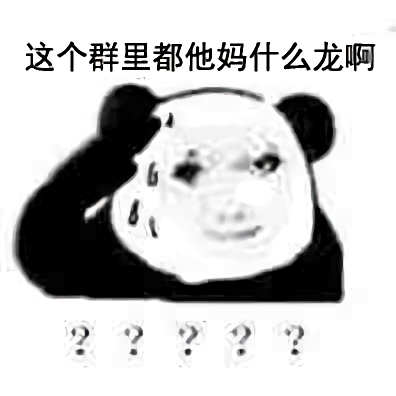dragon: (169, 145, 287, 247)
